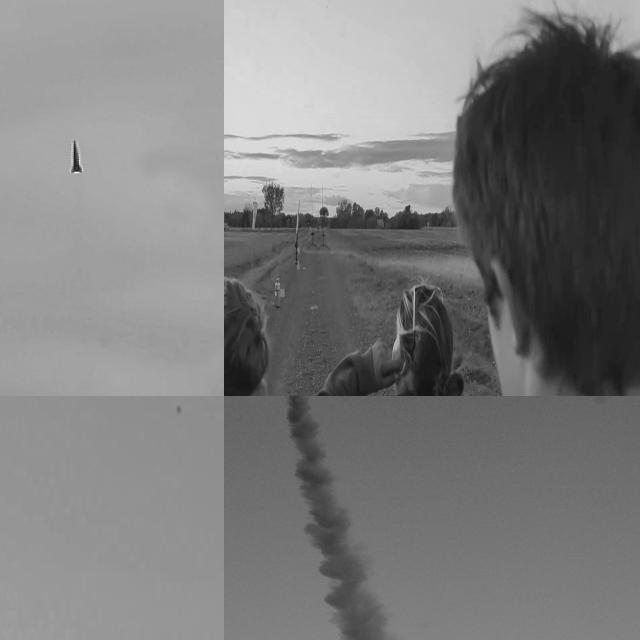Rocket: (70, 138, 84, 174), (294, 215, 298, 248)
